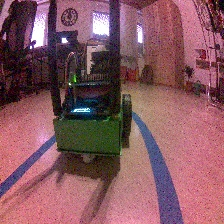rob: (51, 63, 132, 166)
